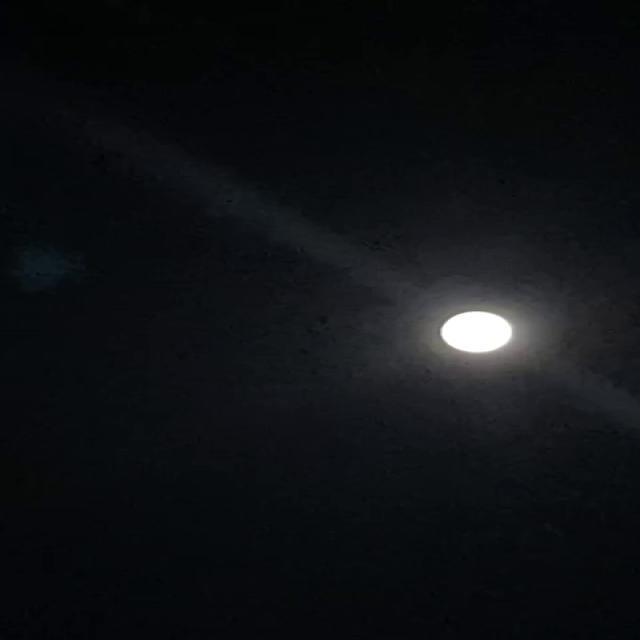moon: (411, 297, 538, 368)
